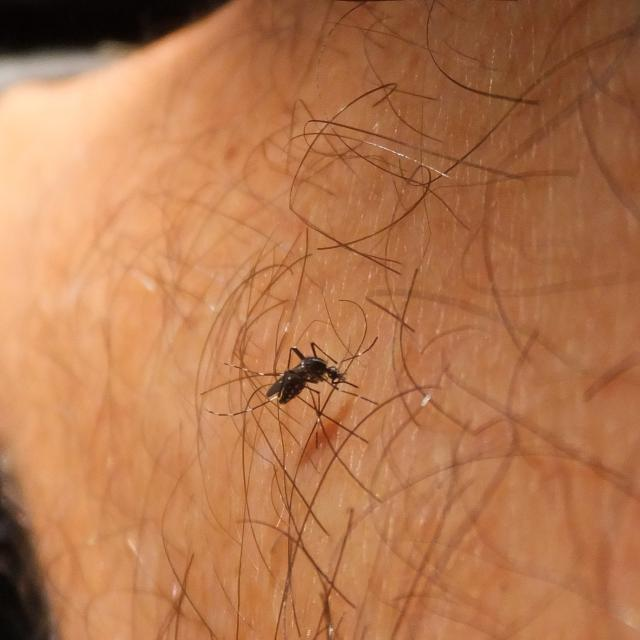albopictus: (197, 324, 380, 430)
